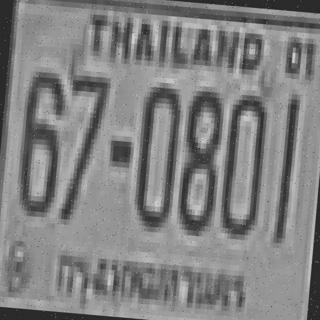N00: (218, 88, 268, 235), (131, 81, 181, 228)
N01: (273, 91, 298, 241), (272, 93, 296, 238)
N06: (12, 65, 65, 213)
N07: (58, 69, 108, 222)
N08: (176, 85, 223, 232)
P04: (47, 237, 252, 320)
